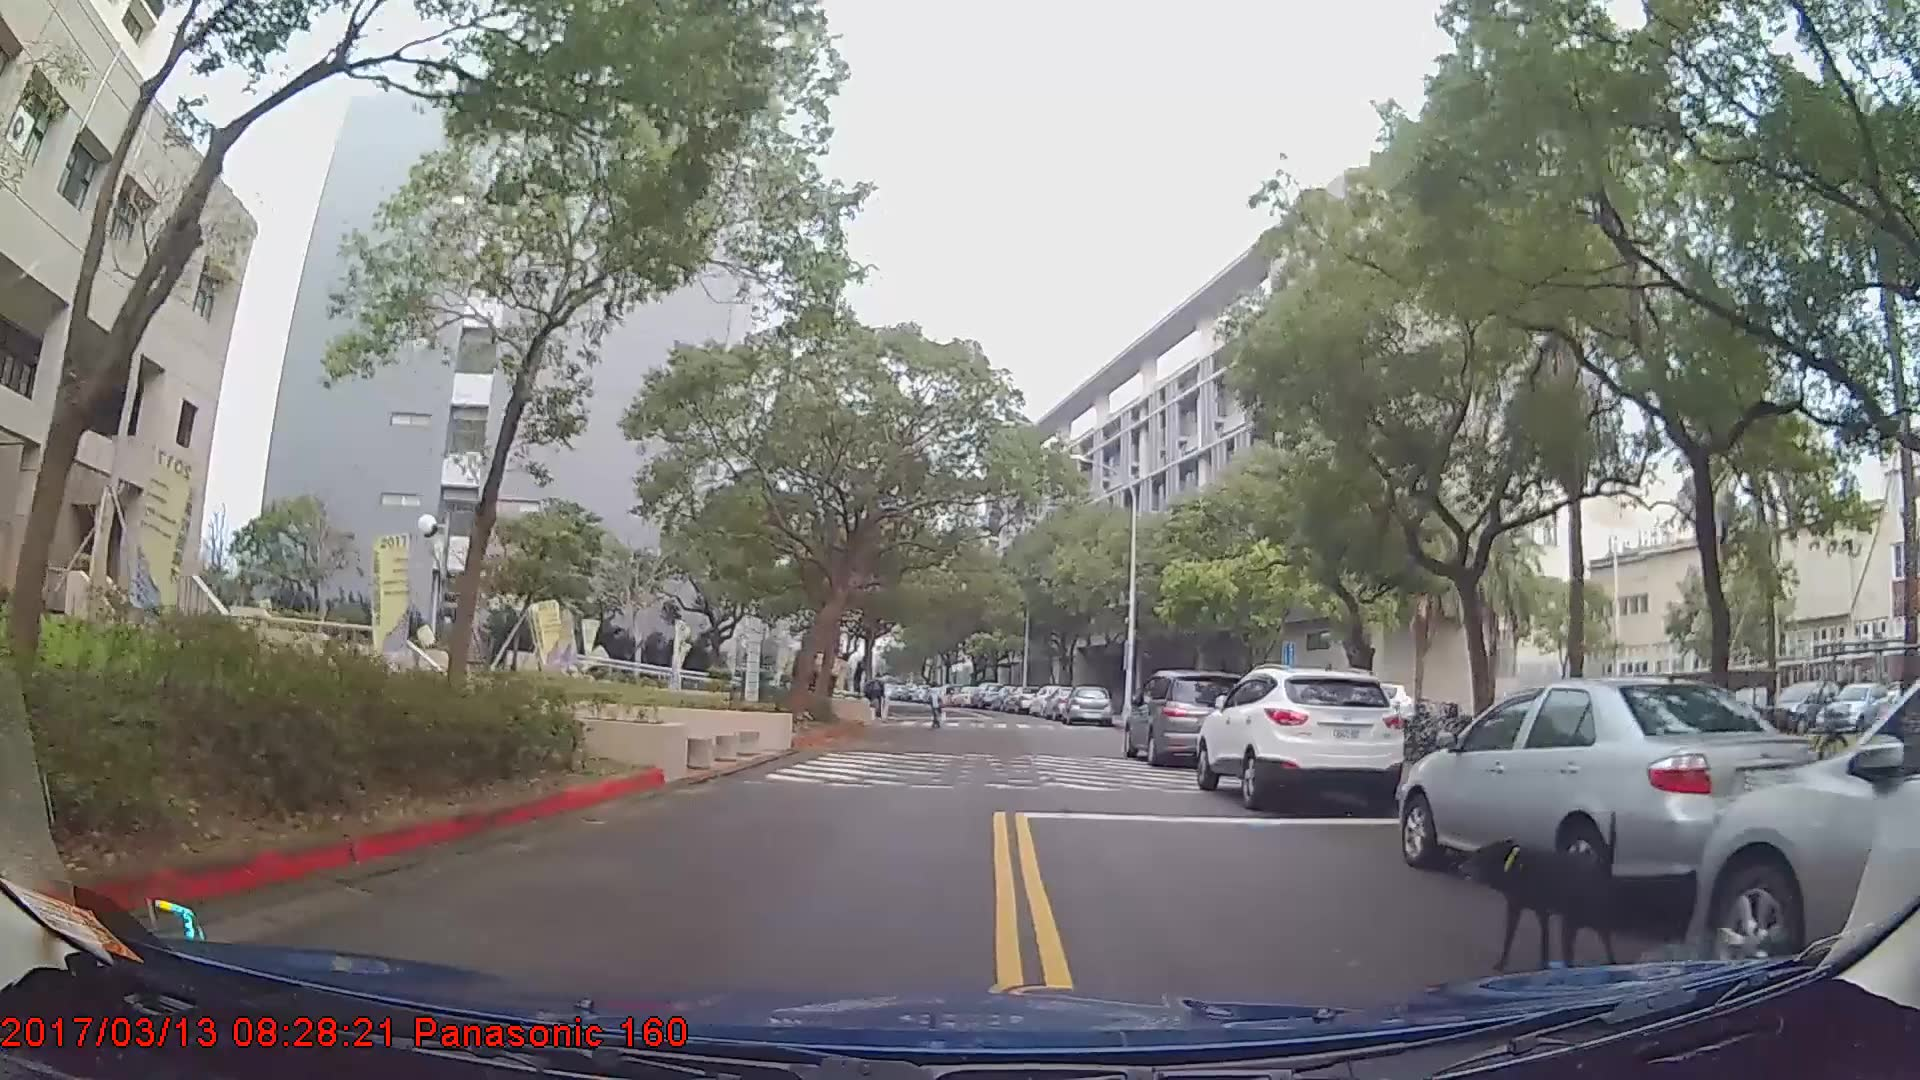pedestrian: (922, 681, 947, 732), (866, 674, 889, 722)
vehicle: (1394, 674, 1825, 906), (1684, 670, 1920, 1004), (1193, 664, 1407, 814), (1123, 669, 1256, 764), (1063, 680, 1110, 725), (970, 679, 1003, 709)
